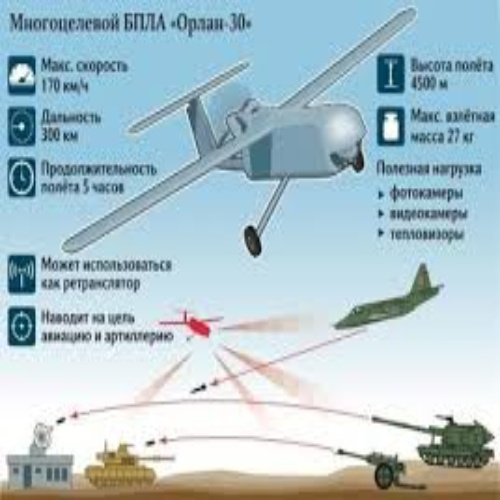uav: (56, 7, 421, 256)
